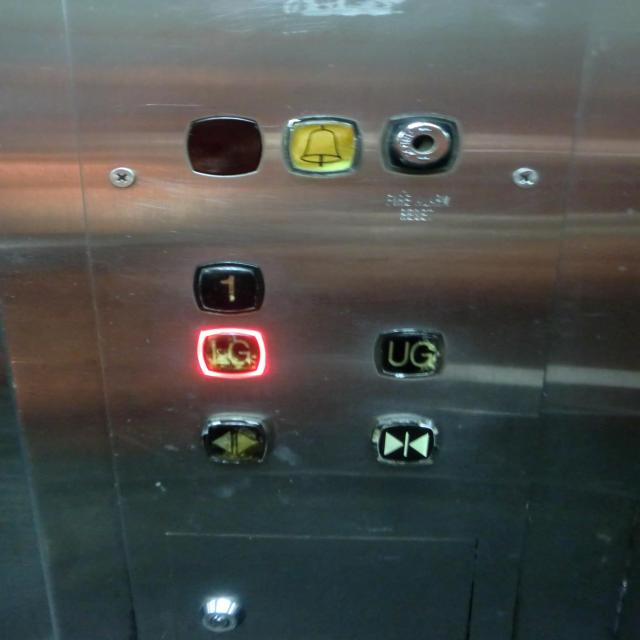1: (188, 258, 270, 320)
LG: (190, 325, 271, 387)
UG: (368, 324, 449, 386)
alarm: (280, 111, 361, 179)
close: (364, 410, 442, 476)
empty: (182, 111, 268, 182)
open: (196, 408, 274, 474)
unknown: (380, 110, 465, 180)
